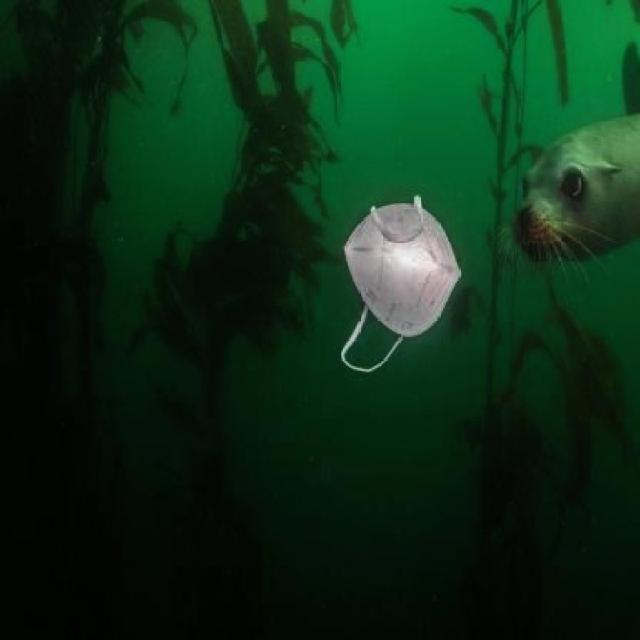Mask: (334, 196, 464, 379)
